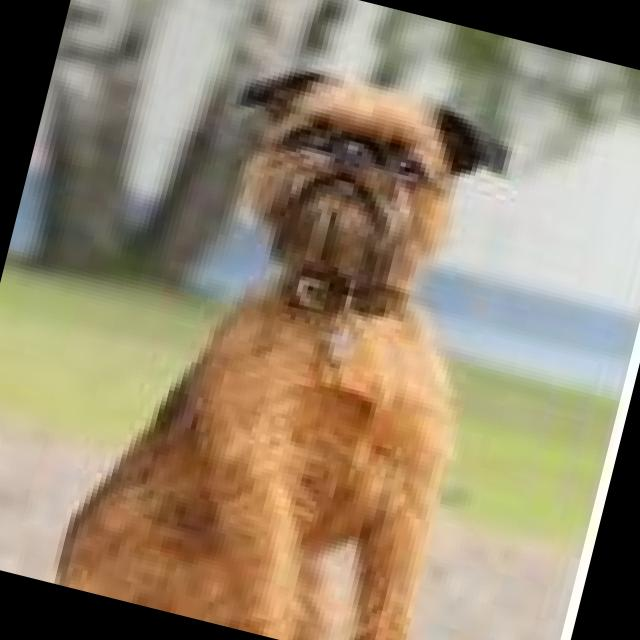Perro: (43, 34, 548, 640)
